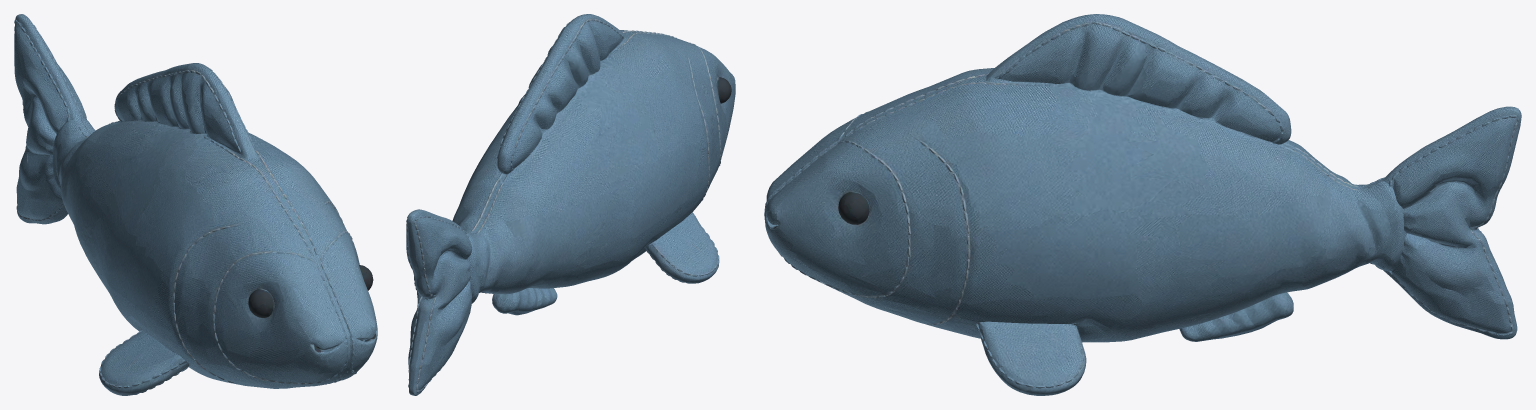
File: fabric-fish-master.glb
The picture shows the model from 3 angles, left to right: view 1: azimuth 30°, elevation 25°; view 2: azimuth 150°, elevation 25°; view 3: azimuth 270°, elevation 25°; orthographic projection. The views are drawn at different scales.
Bounding box in the file's own units: 0.8125 × 0.8964 × 1.9.
Materials: 1 (1 with a texture image).
